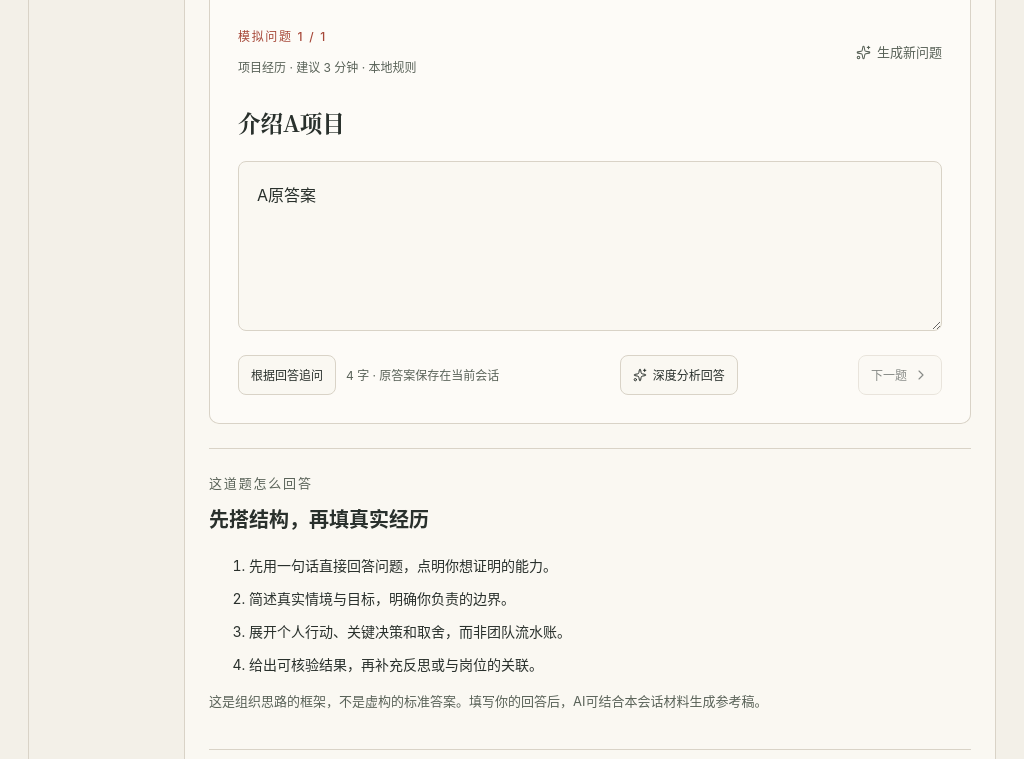
Scenario: InterviewStudio › 分析服务失败保留答案并允许重试
(page scrolled)
Click the button "深度分析回答" at (679, 375), box [620, 355, 738, 395]
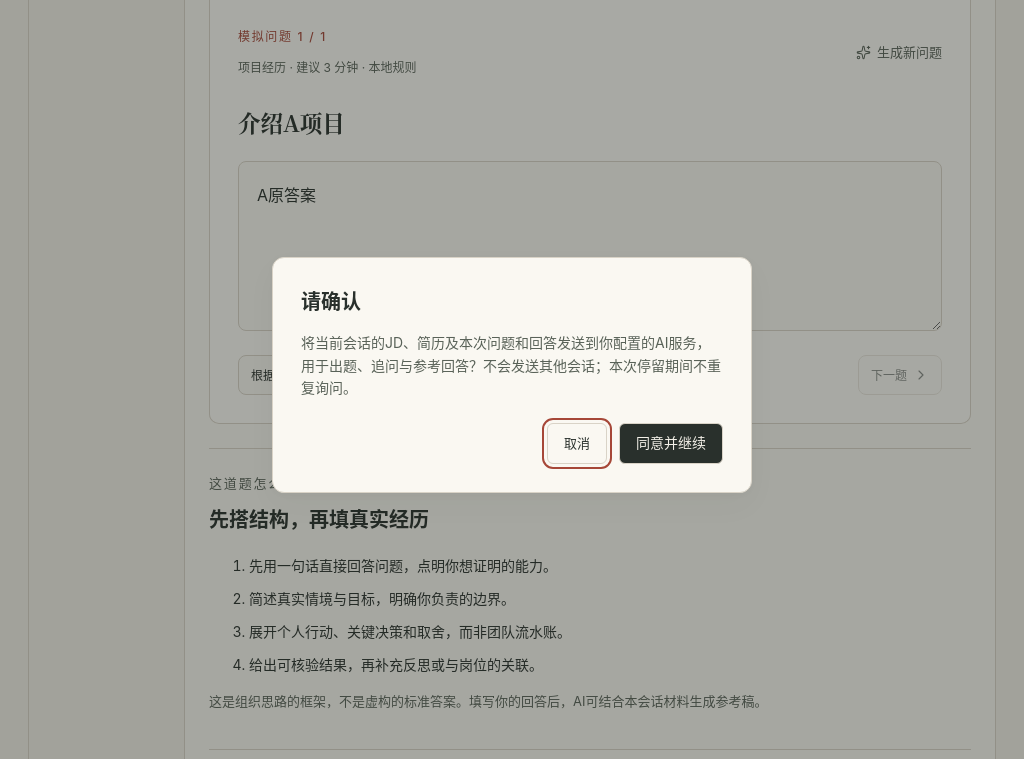
Click the button "同意并继续" at (671, 444), box [619, 423, 723, 464]
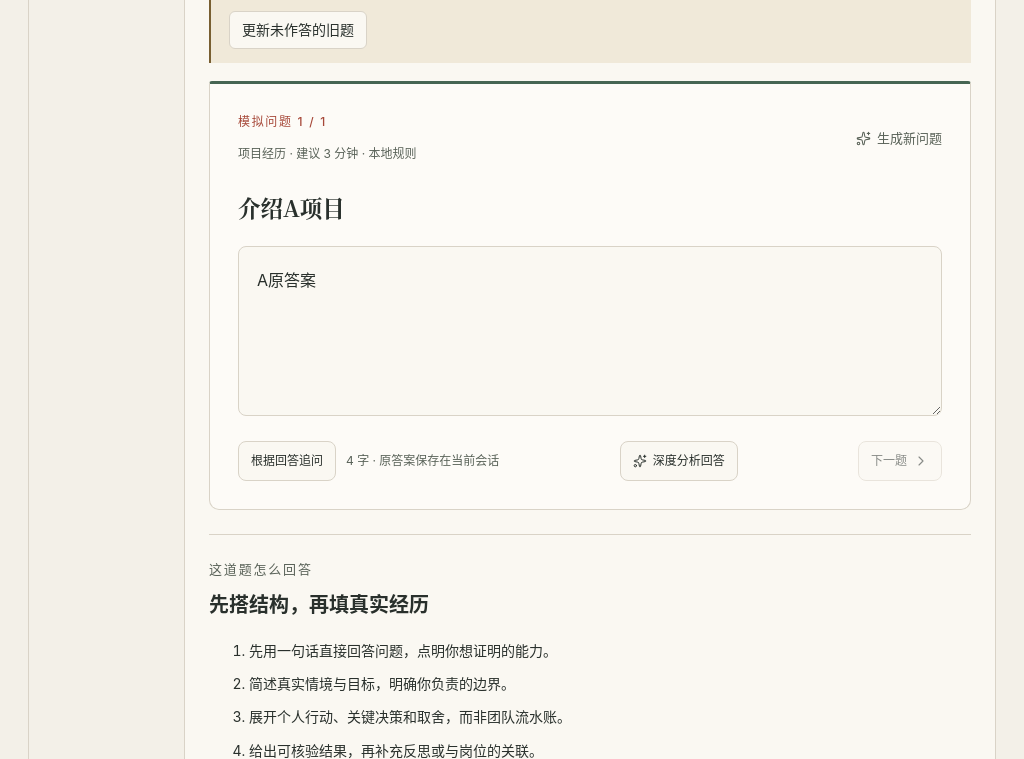
Expected: the button "深度分析回答" is enabled, [620, 441, 738, 481]
